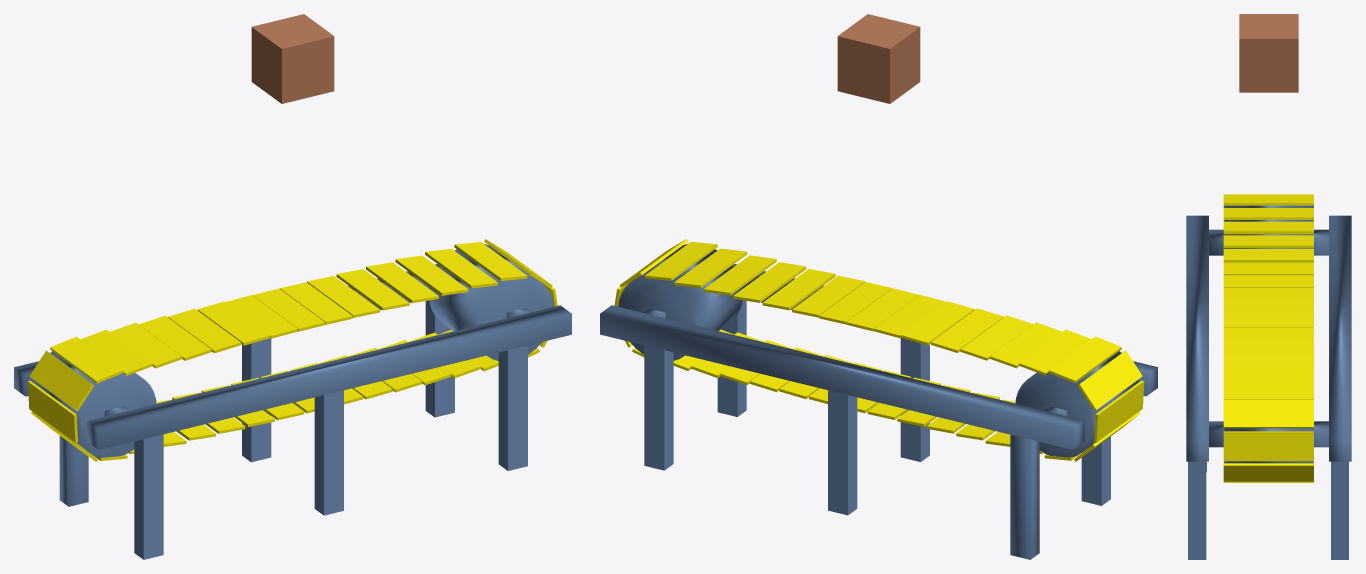
The model's file is Conveyor_Animated.glb.
3 views of the same model, side by side, from view 1: azimuth 30°, elevation 25°; view 2: azimuth 150°, elevation 25°; view 3: azimuth 270°, elevation 25° (orthographic). The views are drawn at different scales.
Parts seen in each view (by area): view 1: Cube.039, Cube.037, Cube.008, Cube.007, Cube.009, Cube.005, Cube.003, Cube.006, Cube.002, Cube.004, Cube.033, Cube.032 (+7 smaller); view 2: Cube.039, Cube.037, Cube.008, Cube.007, Cube.009, Cube.005, Cube.004, Cube.002, Cube.006, Cube.003, Cube.033, Cube.032 (+7 smaller); view 3: Cube.039, Cube.037, Cube.027, Cube.028, Cube.026, Cube.029, Cube.031, Cube.032, Cube.034, Cube.033, Cube.003, Cube.030 (+8 smaller).
Part boxes in pixels (x1,y1,x2,y2): Cube.039: (14, 244, 571, 559); Cube.037: (251, 14, 334, 103); Cube.008: (29, 350, 94, 411); Cube.007: (50, 336, 123, 383); Cube.009: (27, 380, 77, 442); Cube.005: (110, 322, 182, 368); Cube.003: (168, 308, 241, 353); Cube.006: (81, 329, 152, 375); Cube.002: (197, 301, 270, 345); Cube.004: (139, 315, 211, 360); Cube.033: (336, 269, 409, 310); Cube.032: (366, 262, 438, 303); Cube.039: (600, 244, 1157, 559); Cube.037: (837, 14, 920, 103); Cube.008: (1078, 350, 1142, 411); Cube.007: (1048, 336, 1121, 383); Cube.009: (1094, 380, 1144, 442); Cube.005: (989, 322, 1062, 368); Cube.004: (960, 315, 1033, 360); Cube.002: (901, 301, 974, 345); Cube.006: (1019, 329, 1091, 375); Cube.003: (931, 308, 1003, 352); Cube.033: (762, 269, 835, 310); Cube.032: (733, 262, 806, 302); Cube.039: (1186, 205, 1351, 559); Cube.037: (1239, 14, 1298, 92); Cube.027: (1223, 431, 1313, 461); Cube.028: (1223, 400, 1313, 428); Cube.026: (1223, 463, 1313, 481); Cube.029: (1223, 383, 1313, 399); Cube.031: (1223, 355, 1313, 369); Cube.032: (1223, 341, 1313, 355); Cube.034: (1223, 313, 1313, 327); Cube.033: (1223, 327, 1313, 341); Cube.003: (1223, 249, 1313, 262); Cube.030: (1223, 369, 1313, 382).
Bounding box in the file's own units: 12.1 × 10.76 × 3.65.
Materials: 38 (38 with a texture image).
